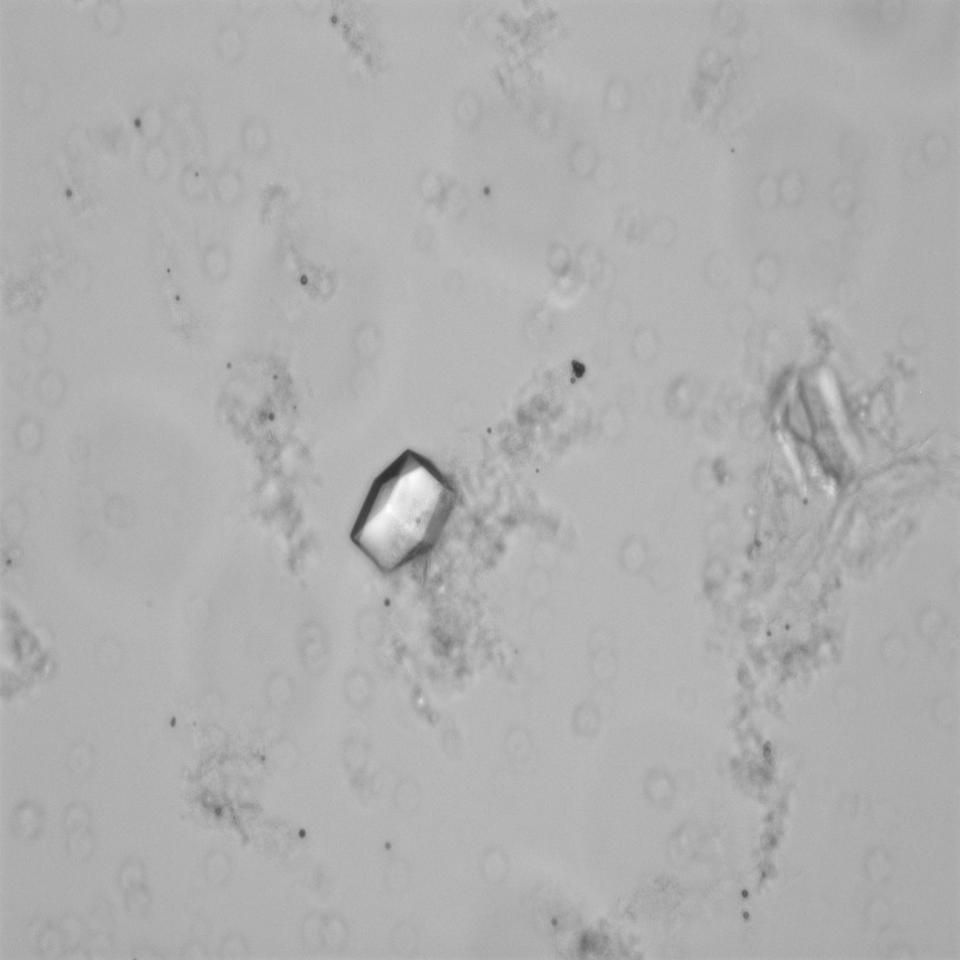crystal: (343, 441, 461, 582)
